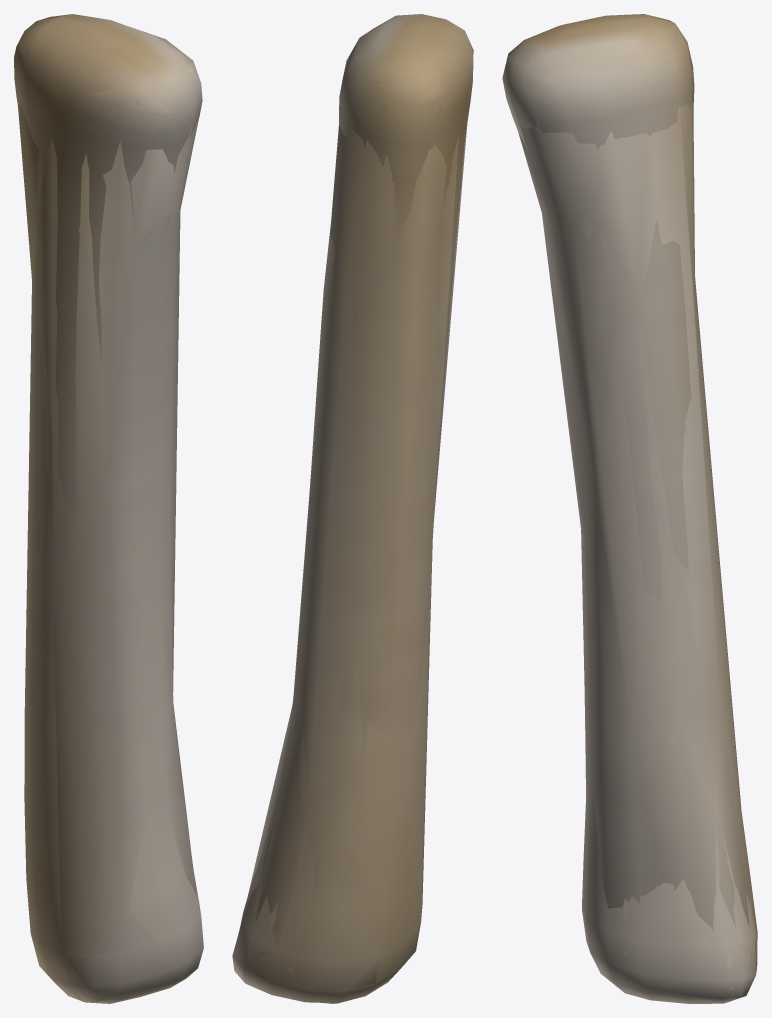
File: L metacarpi quartum.fbx
The picture shows the model from 3 angles, left to right: view 1: azimuth 30°, elevation 25°; view 2: azimuth 150°, elevation 25°; view 3: azimuth 270°, elevation 25°; orthographic projection. The views are drawn at different scales.
Parts seen in each view (by area): view 1: L metacarpi quartum low, L metacarpi quartum, L metacarpi quartum high; view 2: L metacarpi quartum low, L metacarpi quartum, L metacarpi quartum high; view 3: L metacarpi quartum low, L metacarpi quartum, L metacarpi quartum high.
Part boxes in pixels (box(x1,y1,x2,y2)): L metacarpi quartum low: box(14, 14, 201, 1002); L metacarpi quartum: box(14, 14, 203, 1003); L metacarpi quartum high: box(19, 19, 196, 1001); L metacarpi quartum low: box(245, 31, 473, 1002); L metacarpi quartum: box(232, 14, 473, 1003); L metacarpi quartum high: box(238, 30, 468, 983); L metacarpi quartum low: box(503, 19, 757, 993); L metacarpi quartum: box(502, 14, 757, 1003); L metacarpi quartum high: box(508, 17, 753, 1001).
Bounding box in the file's own units: 1.18 × 6.19 × 1.52.
